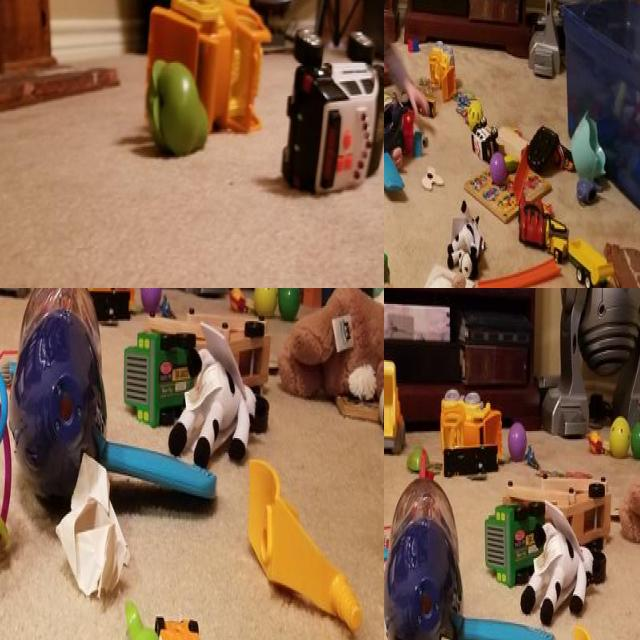toy: (243, 452, 361, 636), (15, 288, 109, 516), (288, 21, 384, 208), (149, 0, 263, 141), (482, 478, 612, 590), (387, 476, 465, 640), (277, 295, 384, 405), (95, 430, 222, 508), (522, 520, 607, 619), (150, 49, 210, 157), (544, 206, 614, 288), (122, 596, 198, 640), (523, 111, 563, 177), (153, 605, 226, 640), (384, 100, 412, 187), (65, 288, 137, 321), (429, 36, 460, 110), (384, 267, 482, 288), (384, 355, 405, 449), (428, 34, 458, 96), (517, 196, 548, 250), (467, 115, 498, 162), (504, 416, 534, 461), (405, 441, 437, 478), (575, 160, 598, 205), (606, 418, 632, 454), (520, 446, 546, 478), (251, 288, 278, 318), (278, 288, 299, 322), (584, 427, 605, 461), (491, 148, 508, 184), (452, 88, 472, 115), (467, 99, 484, 129), (142, 288, 161, 314), (229, 288, 247, 313), (629, 421, 640, 459), (163, 290, 175, 316)
